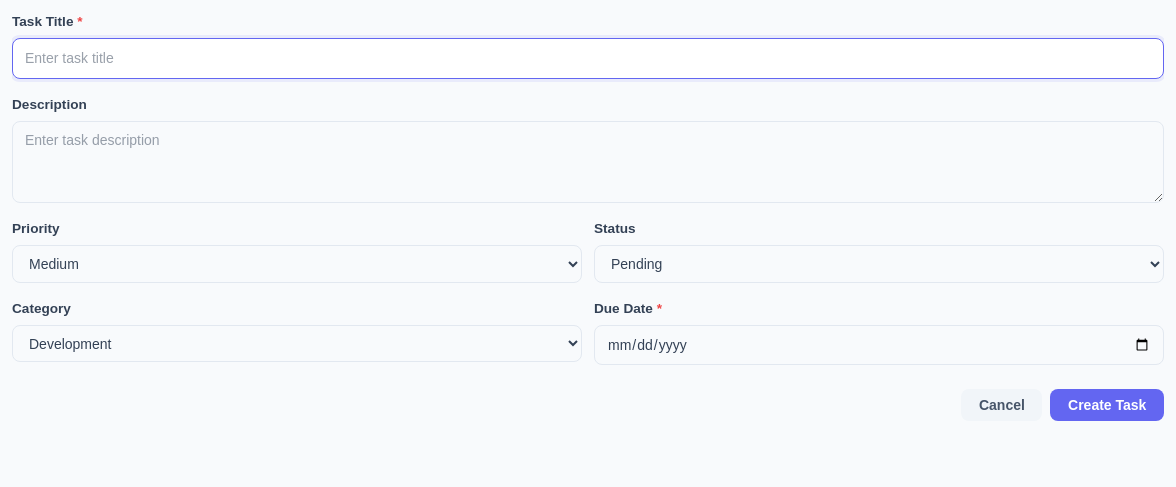
Test case: TaskForm › shows validation error for short title
The image size is (1176, 487).
In the field labelled "Task Title *": (588, 58) x1=12 y1=38 x2=1164 y2=79, type "ab"
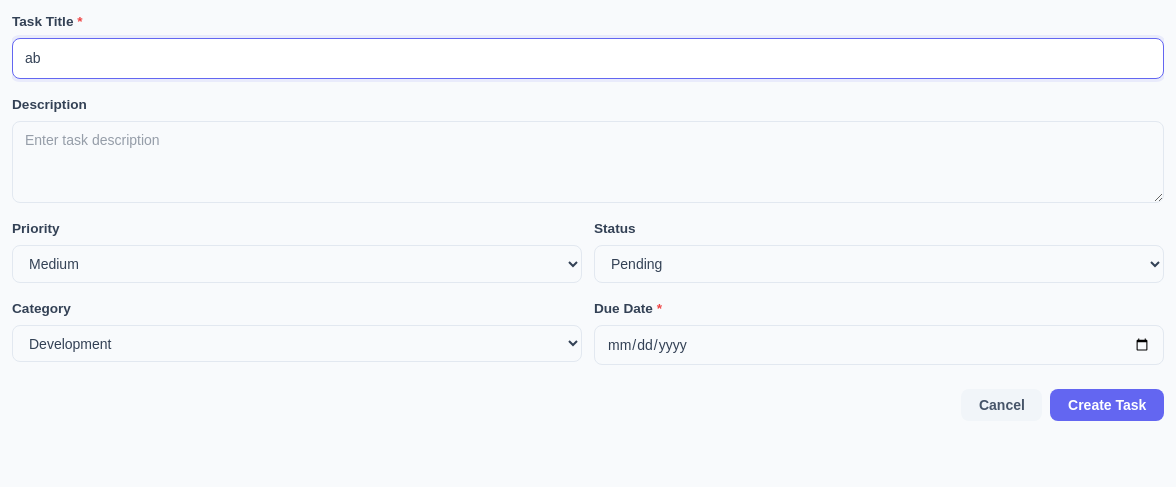
Click the button "Create Task": (1107, 405) x1=1050 y1=389 x2=1164 y2=421
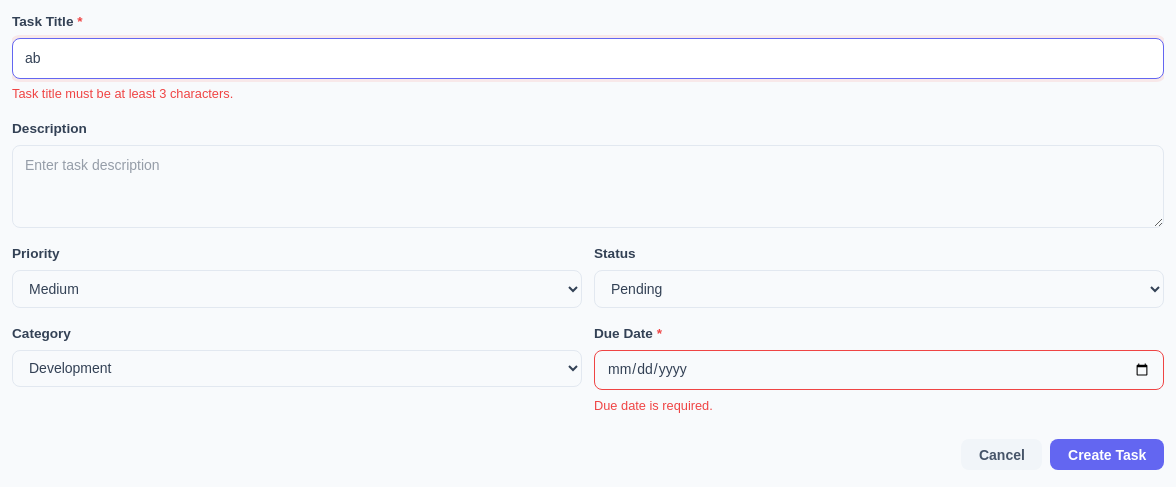
Check: the text "Task title must be at least 3 characters." is shown, box x1=12 y1=86 x2=233 y2=101
